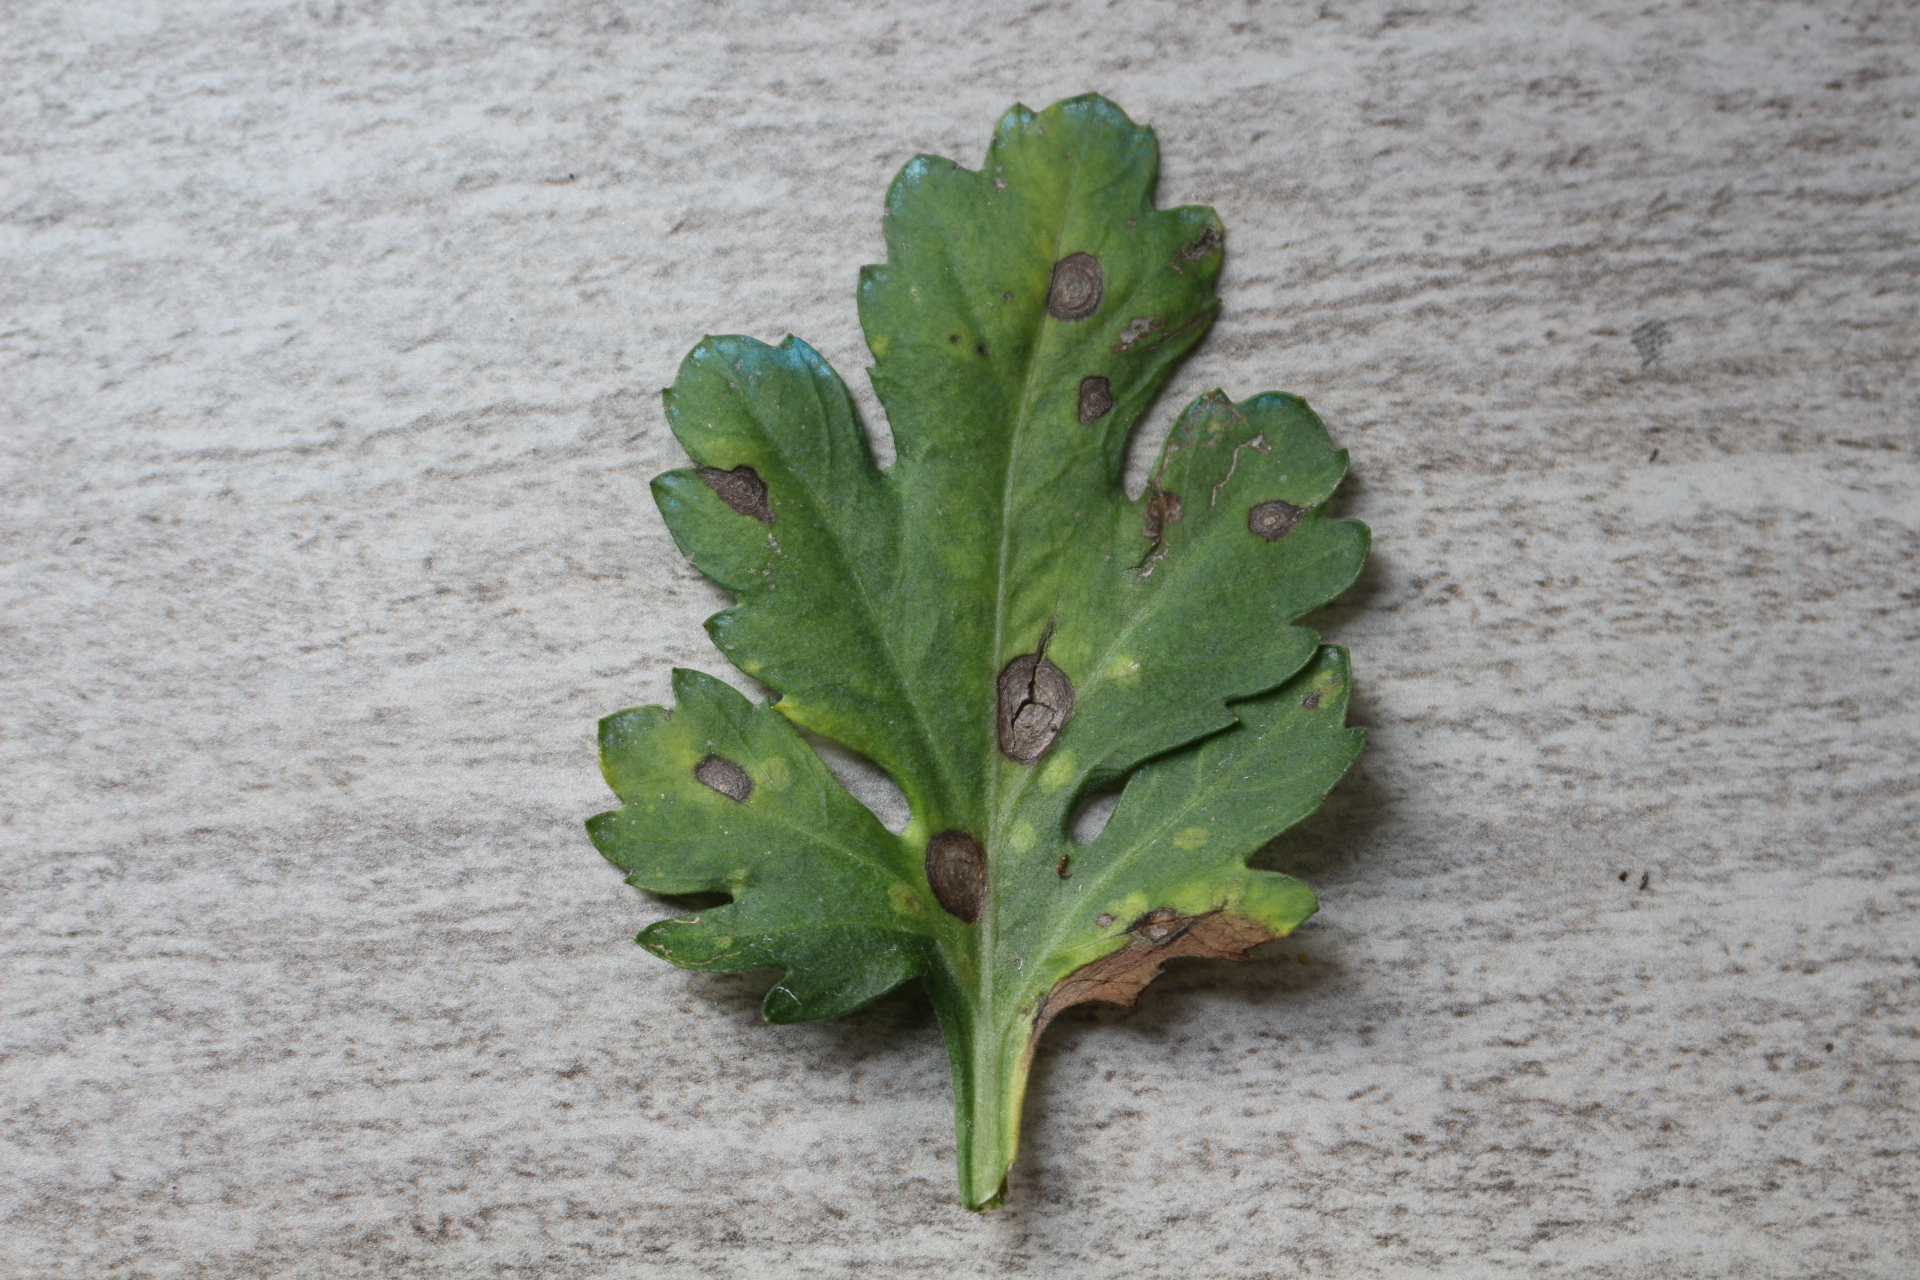namden: (991, 646, 1074, 766), (689, 459, 794, 531), (919, 824, 991, 916), (1043, 253, 1109, 329), (1230, 491, 1303, 549), (691, 756, 753, 804)
namsung: (1169, 824, 1219, 856), (1004, 823, 1039, 854)
